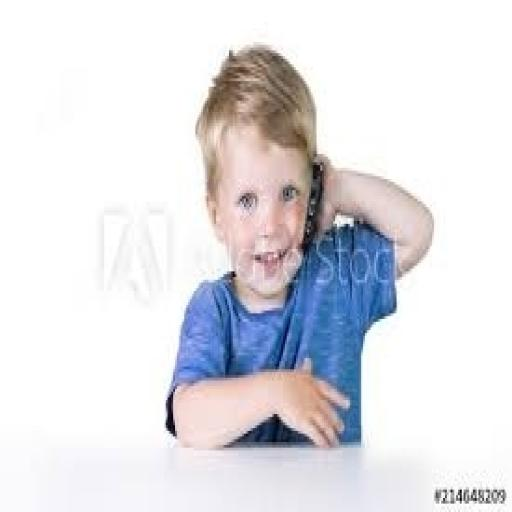texting: (162, 39, 436, 451)
